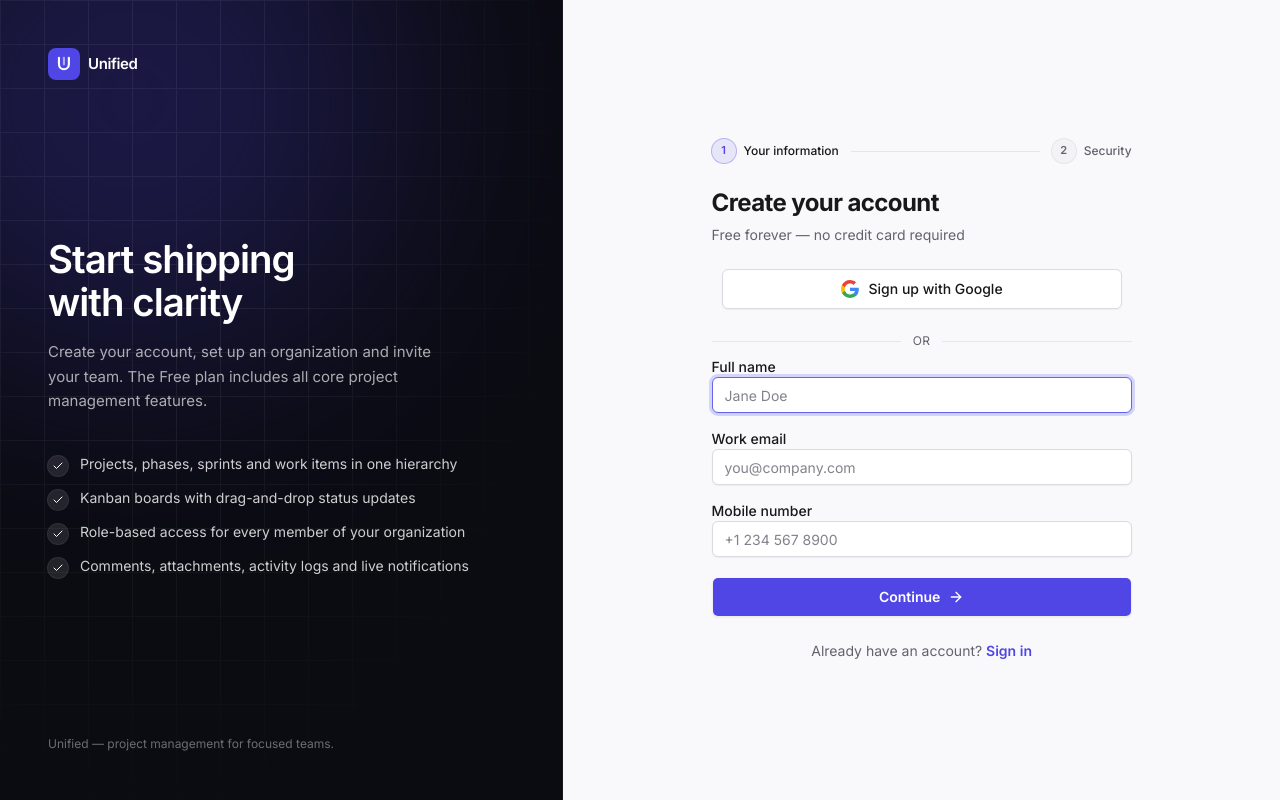
Register Page Component › should transition to step 1 upon valid inputs on step 0, and allow going back
This screenshot has width=1280, height=800.
In the field labelled "Full name": [922, 395] box [712,377,1132,413], type "John Doe"
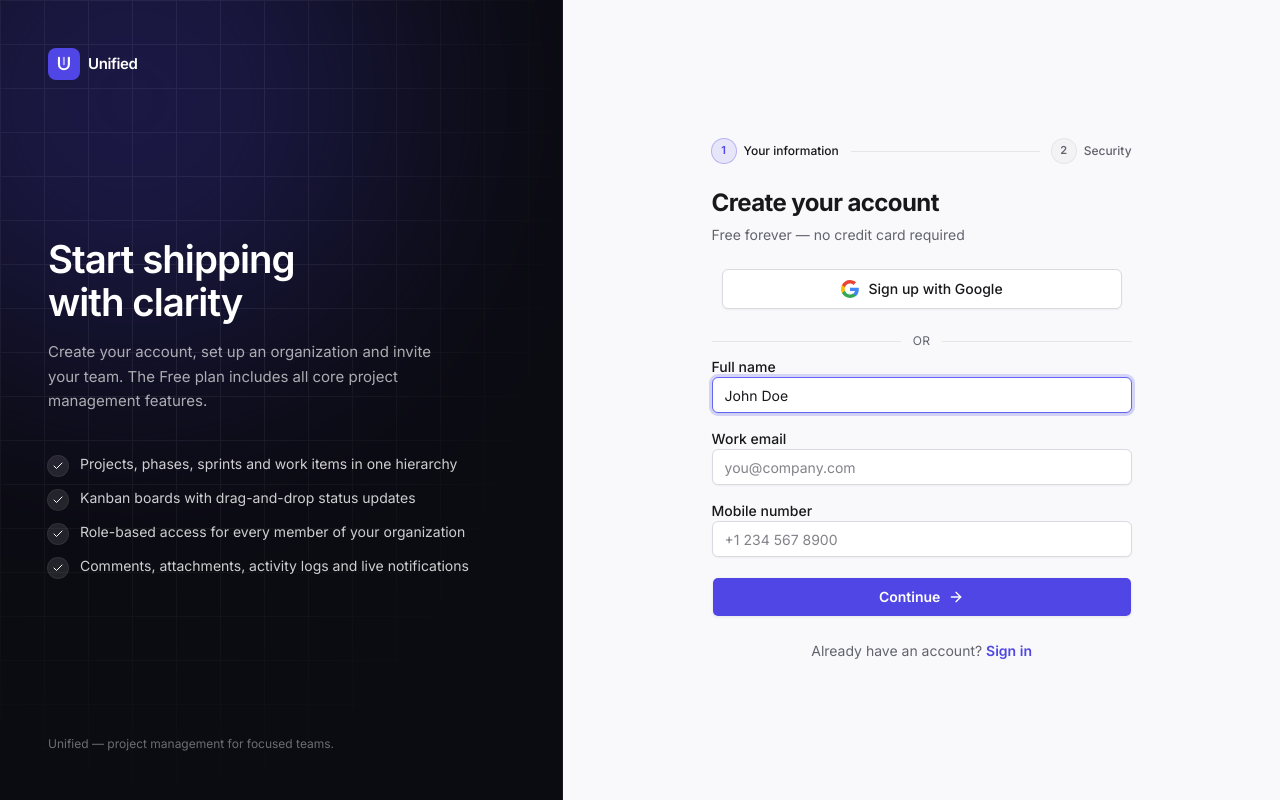
In the field labelled "Work email": [922, 467] box [712,449,1132,485], type "john@example.com"
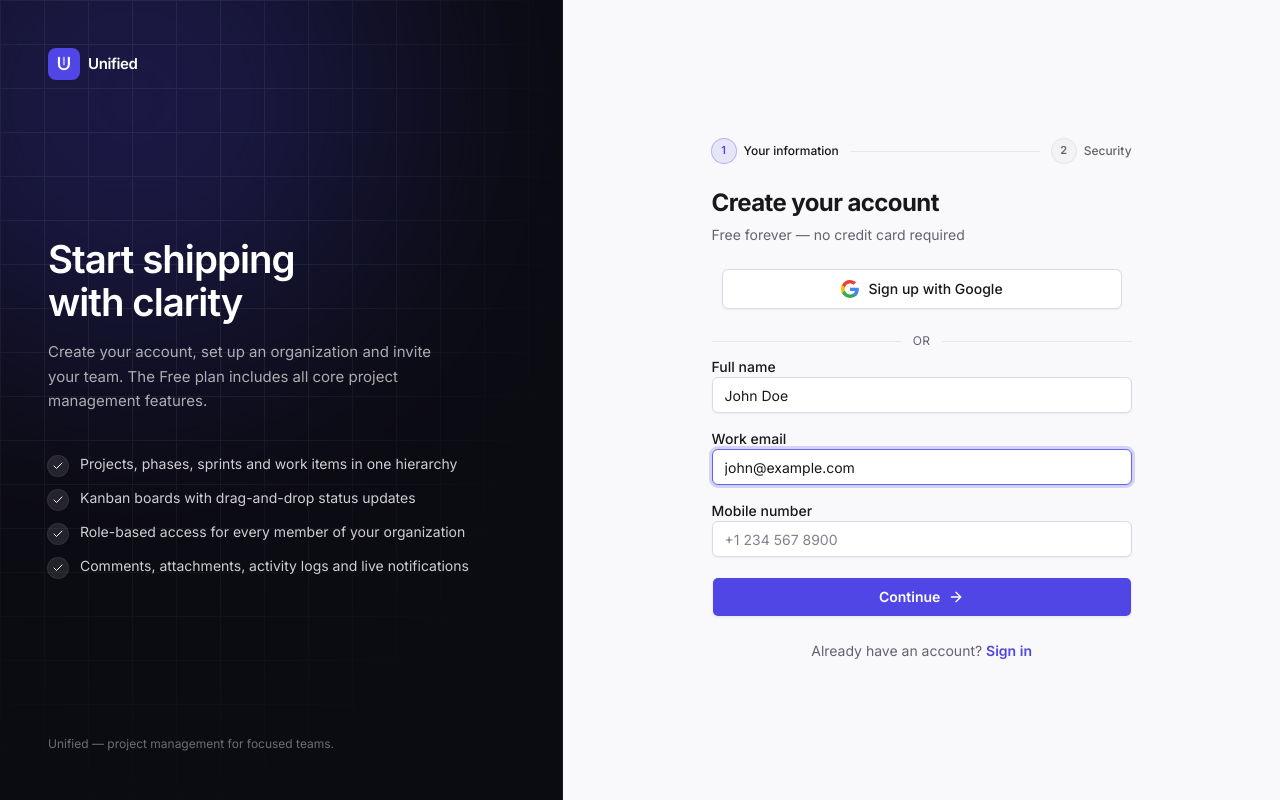
In the field labelled "Mobile number": [922, 539] box [712,521,1132,557], type "+12345678901"
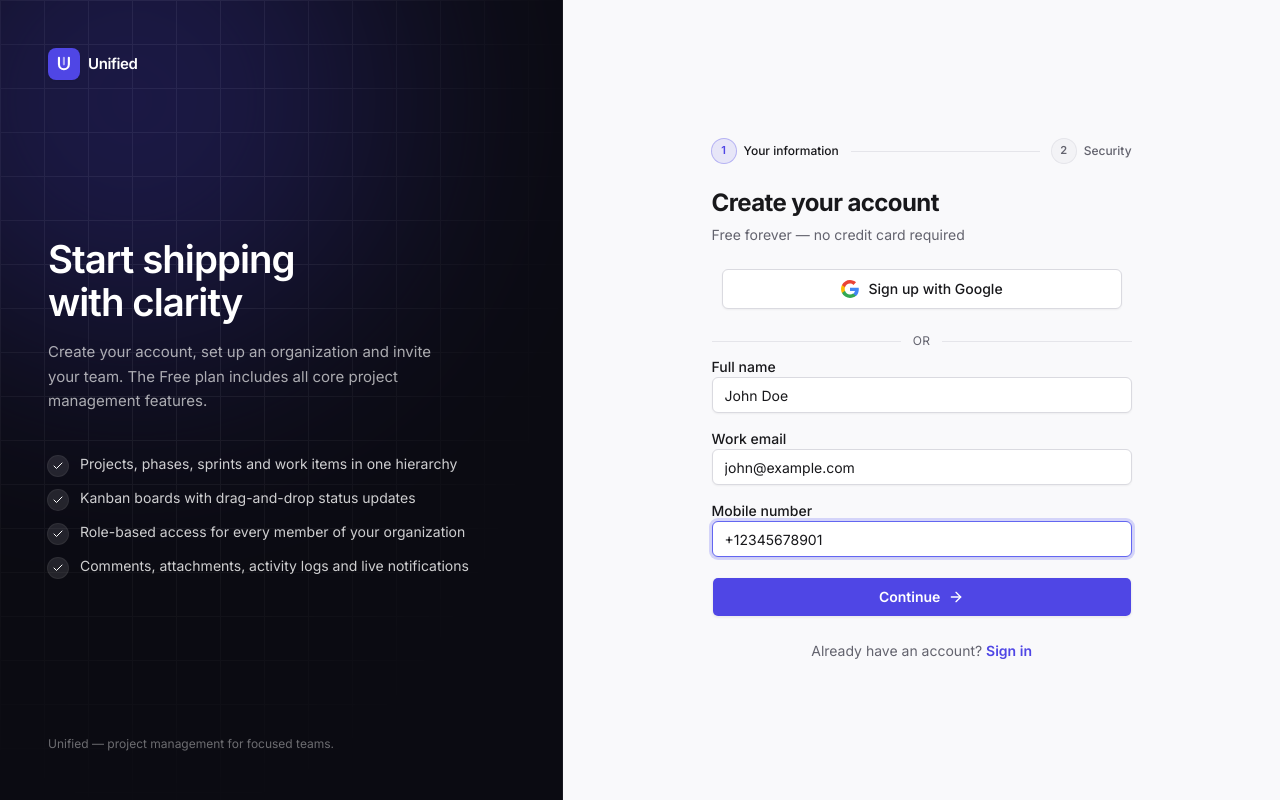
Click the button "Continue": [922, 597] box [712,577,1132,617]
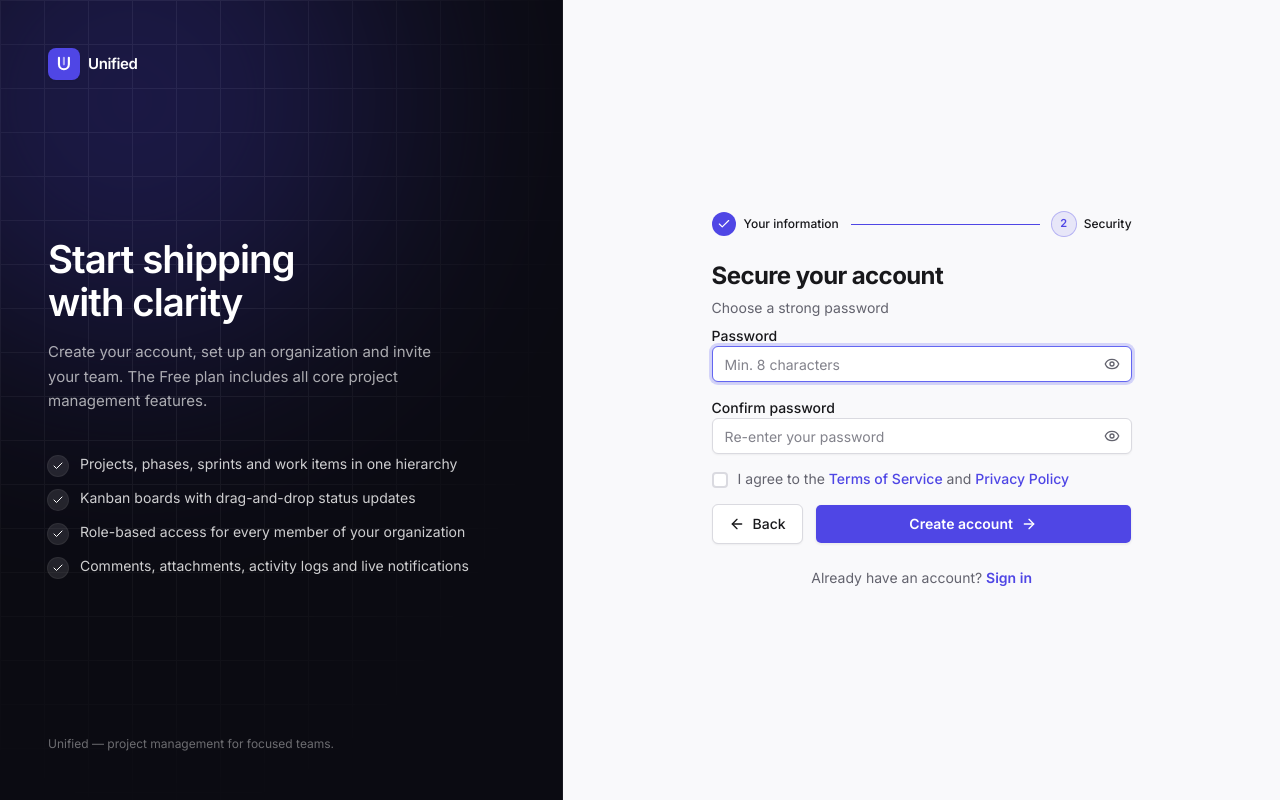
Check: the heading "Secure your account" is shown, box [712,261,943,290]
Check: the password field labelled "Password" is shown, box [712,346,1132,382]
Note: Click back button
Click the button "Back": [757, 524] box [712,504,803,544]
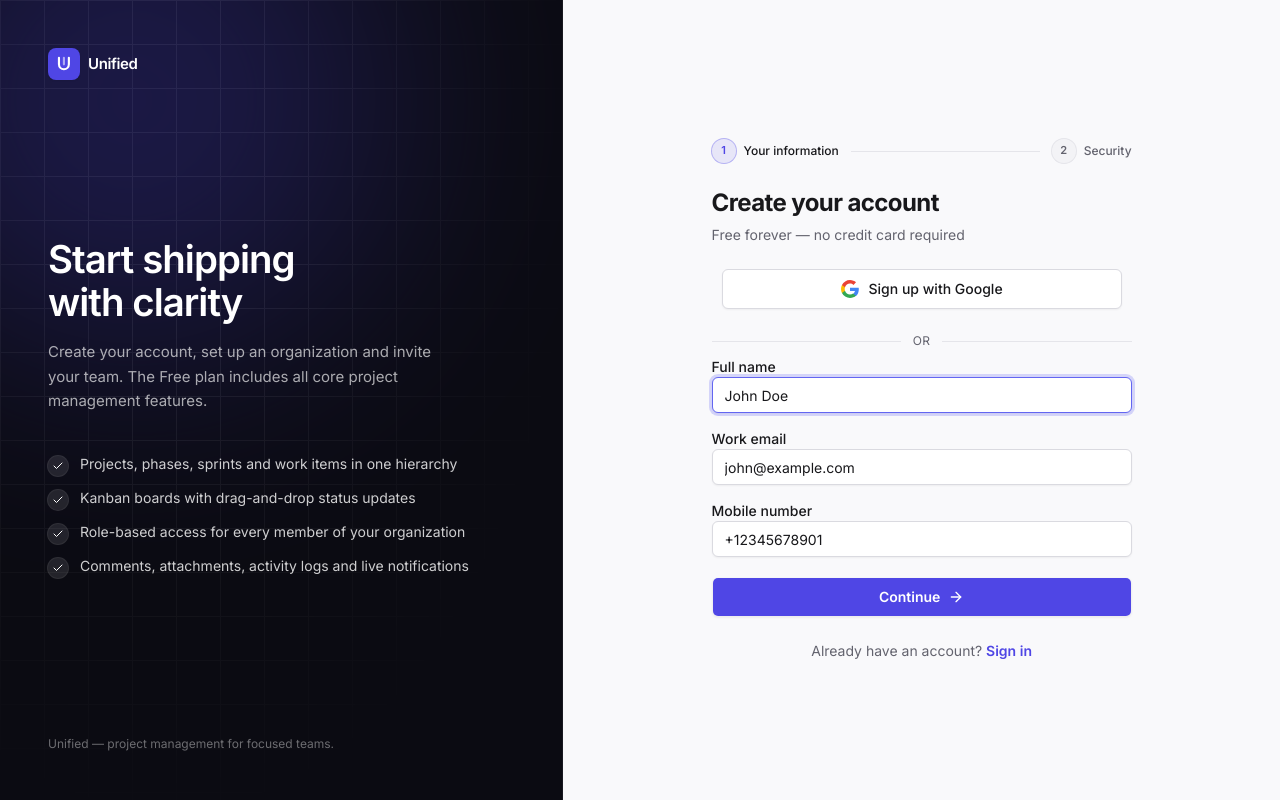
Check: the heading "Create your account" is shown, box [712,188,939,217]
Check: the field labelled "Full name" is shown, box [712,377,1132,413]
